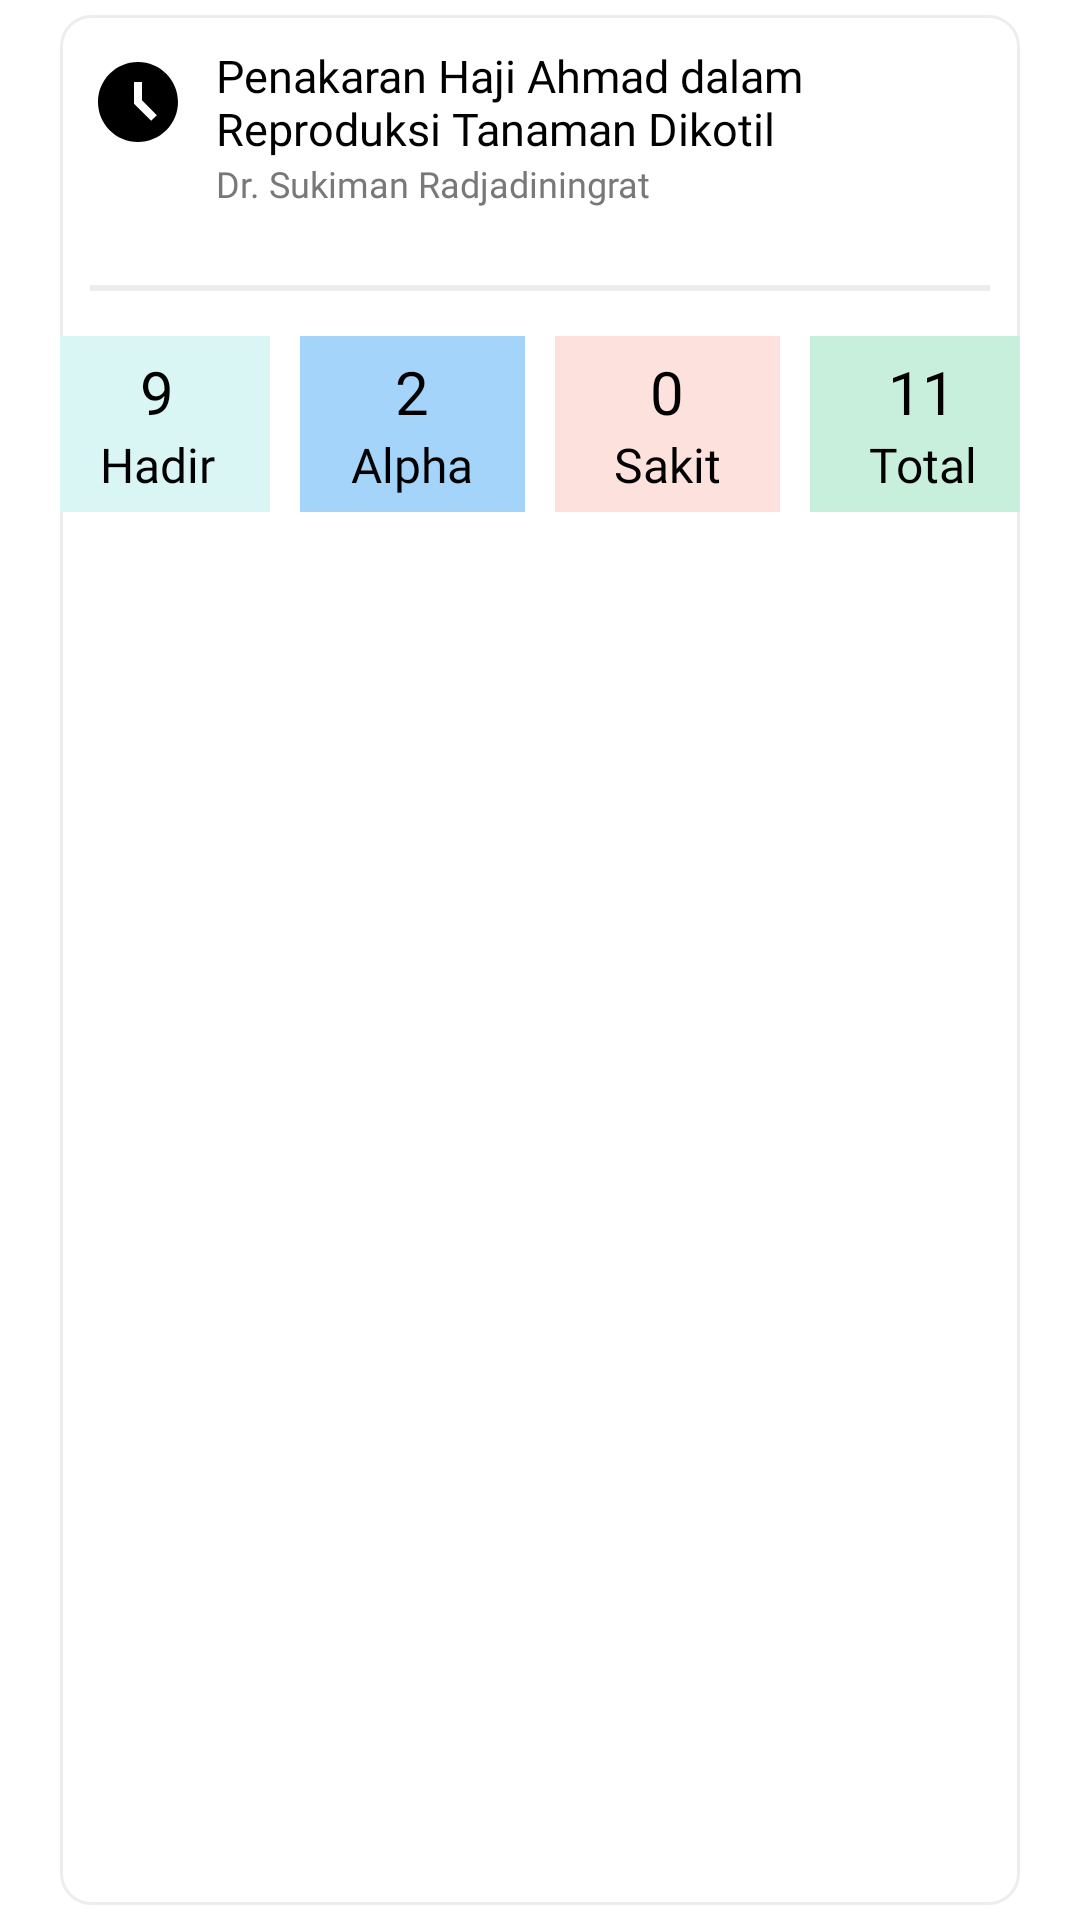

Icons on this 1080px x 1920px Android screen, each with the point to tap as point (x, y):
access time: point (138, 102)
